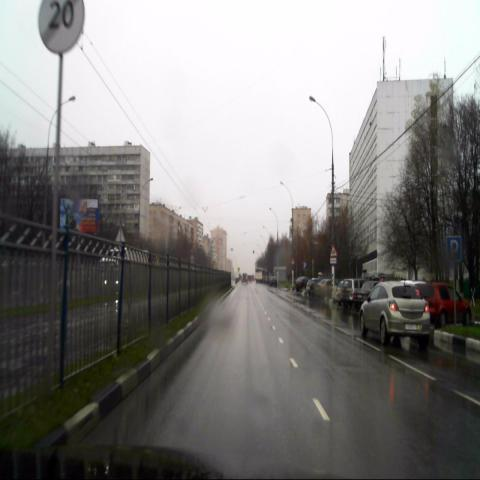3_25: (38, 0, 85, 52)
6_4: (447, 236, 461, 262)
